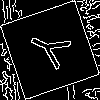Y: (25, 25, 80, 75)
